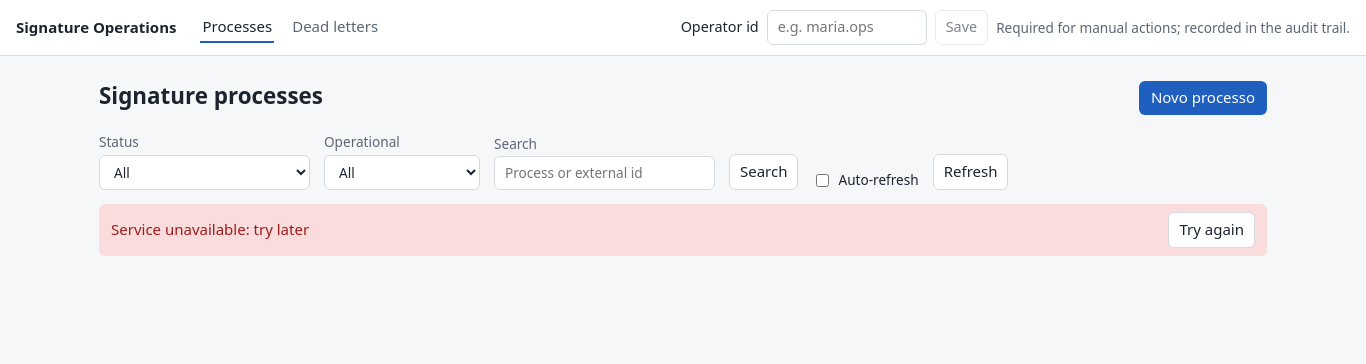
Scenario: process list › shows an error with a retry that works once the API is back
Expected: the message shows "Service unavailable: try later", [111, 219, 309, 239]
What coordinates should you click on to do the following:
click the button "Try again"
I would click on:
 (1212, 230)
Its box is [1168, 212, 1255, 248].
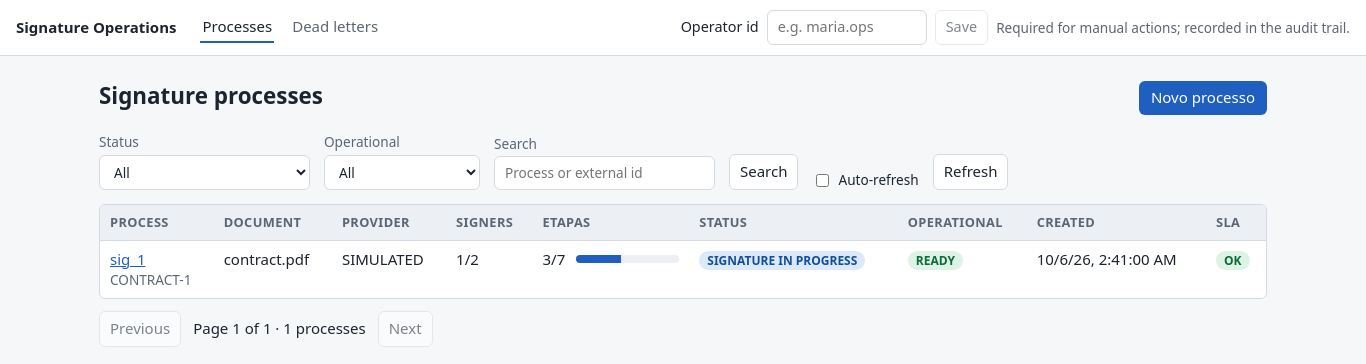
Expected: the table is shown, [100, 205, 1266, 298]
Expected: the message "Service unavailable: try later Try again" is gone
